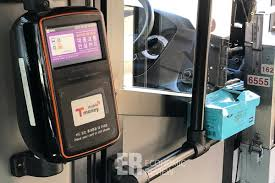terminal: (7, 5, 128, 166)
